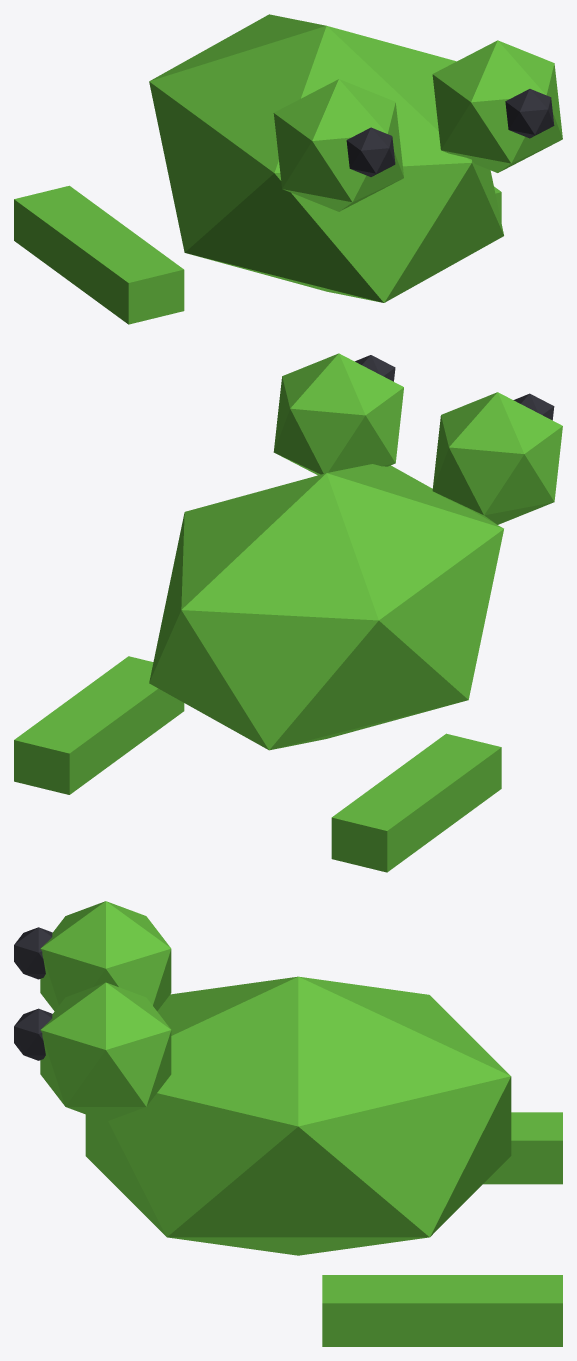
File: frog.glb
3 renders of one model, top to bottom at view 1: azimuth 30°, elevation 25°; view 2: azimuth 150°, elevation 25°; view 3: azimuth 270°, elevation 25°, orthographic. The views are drawn at different scales.
Parts seen in each view (by area): view 1: frog; view 2: frog; view 3: frog.
Boxes of the visible parts, x1,y1,x2,y2 form: frog: [14, 14, 562, 324]; frog: [14, 353, 562, 872]; frog: [14, 901, 562, 1346].
Bounding box in the file's own units: 0.47 × 0.36 × 0.5705.
